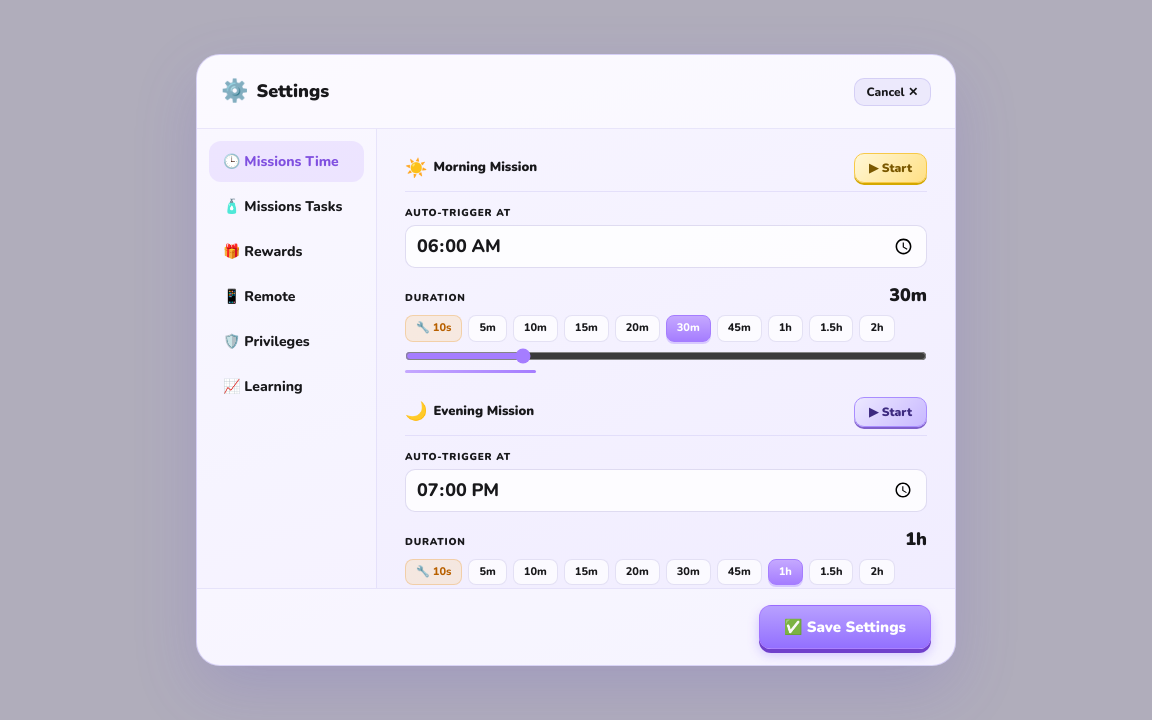
Test: MCSettingsOverlay — ⚙️ → 📱 Remote › draws no QR code for an unmarked (v1) pairing, only the waiting text
Click the button "📱 Remote".
click(286, 296)  # box [209,276,364,317]
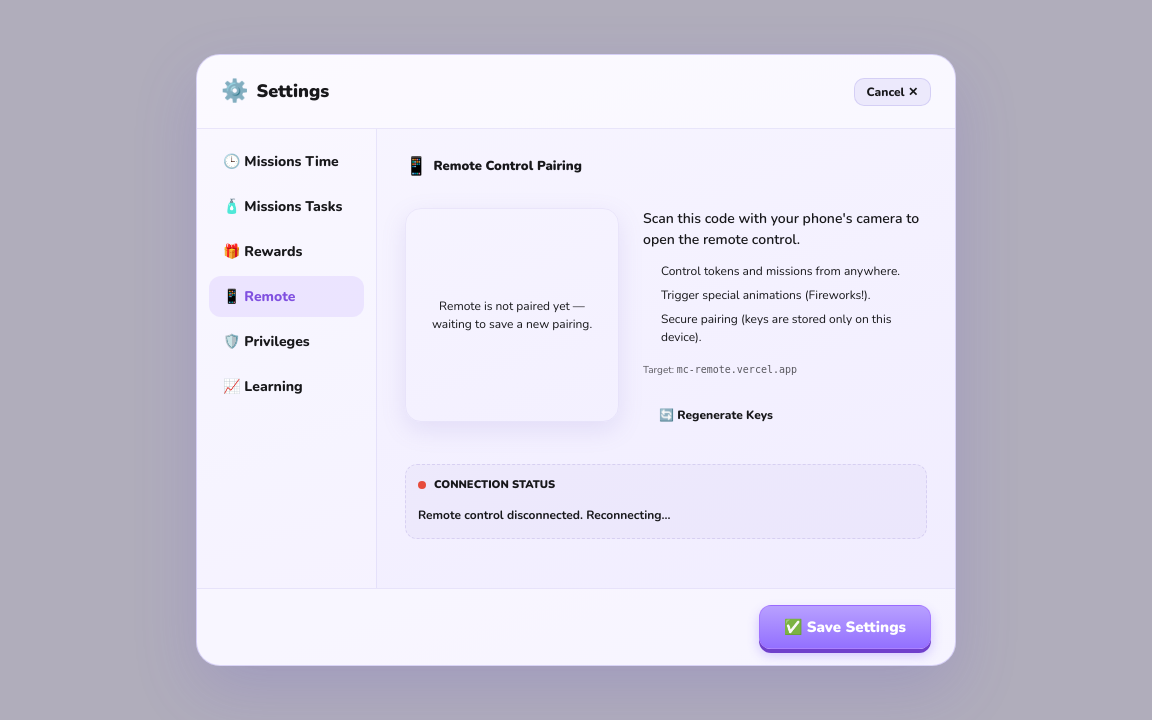
expect the text "Remote is not paired yet — waiting to save a new pairing." is shown: met, box [432,298,592,332]
